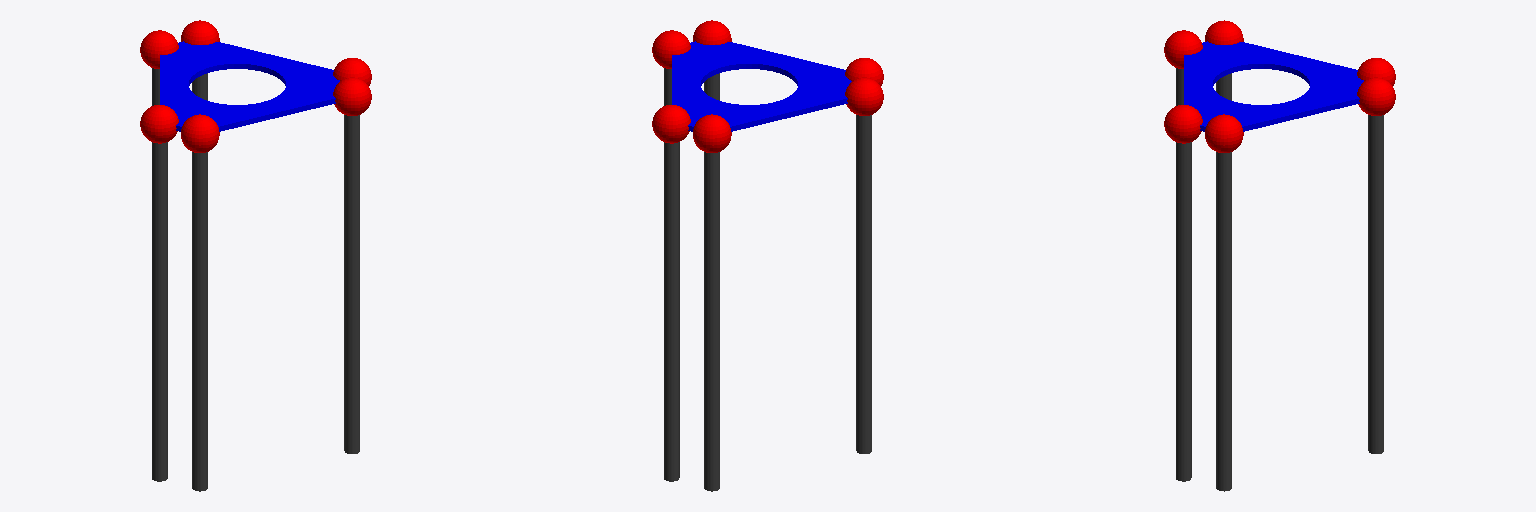
robot.urdf — stewart:
<?xml version="1.0" ?>
<!-- ======================================================================= -->
<!--LICENSE:                                                                 -->
<!--Copyright (c) 2017, [author]                                        -->
<!--Google Inc.                                                              -->
<!--All rights reserved.                                                     -->
<!--                                                                         -->
<!--Redistribution and use in source and binary forms, with or without       -->
<!--modification, are permitted provided that the following conditions are   -->
<!--met:                                                                     -->
<!--                                                                         -->
<!--1. Redistributions or derived work must retain this copyright notice,    -->
<!--   this list of conditions and the following disclaimer.                 -->
<!--                                                                         -->
<!--2. Redistributions in binary form must reproduce the above copyright     -->
<!--   notice, this list of conditions and the following disclaimer in the   -->
<!--   documentation and/or other materials provided with the distribution.  -->
<!--                                                                         -->
<!--THIS SOFTWARE IS PROVIDED BY THE COPYRIGHT [author] "AS  -->
<!--IS" AND ANY EXPRESS OR IMPLIED WARRANTIES, INCLUDING, BUT NOT LIMITED TO,-->
<!--THE IMPLIED WARRANTIES OF MERCHANTABILITY AND FITNESS FOR A PARTICULAR   -->
<!--PURPOSE ARE DISCLAIMED. IN NO EVENT SHALL THE COPYRIGHT [author]        -->
<!--CONTRIBUTORS BE LIABLE FOR ANY DIRECT, INDIRECT, INCIDENTAL, SPECIAL,    -->
<!--EXEMPLARY, OR CONSEQUENTIAL DAMAGES (INCLUDING, BUT NOT LIMITED TO,      -->
<!--PROCUREMENT OF SUBSTITUTE GOODS OR SERVICES; LOSS OF USE, DATA, OR       -->
<!--PROFITS; OR BUSINESS INTERRUPTION) HOWEVER CAUSED AND ON ANY THEORY OF   -->
<!--LIABILITY, WHETHER IN CONTRACT, STRICT LIABILITY, OR TORT (INCLUDING     -->
<!--NEGLIGENCE OR OTHERWISE) ARISING IN ANY WAY OUT OF THE USE OF THIS       -->
<!--SOFTWARE, EVEN IF ADVISED OF THE POSSIBILITY OF SUCH DAMAGE.             -->

<robot name="stewart" 
  xmlns:xacro="http://www.ros.org/wiki/xacro">
  <link name="base_link">
    <contact>
      <lateral_friction value="1"/>
    </contact>
    <visual>
      <geometry>
        <!-- <cylinder length="0.02" radius="0.2"/> -->
        <mesh filename="meshes/platform.stl"/>
      </geometry>
      <material name="blue"/>
    </visual>
    <collision>
      <geometry>
        <cylinder length="0.02" radius="0.2"/>
      </geometry>
    </collision>
    <inertial>
      <mass value="0.5" />
      <origin xyz="0 0 0" rpy="0 0 0" />
      <inertia ixx="0.01" ixy="0" ixz="0" iyy="0.01" iyz="0" izz="0.01" />
    </inertial>
  </link>

  <!-- LEG 1 -->
  <link name="leg1x">
    <visual>
      <geometry>
        <sphere radius="0.02"/>
      </geometry>
      <material name="red"/>
    </visual>
    <collision>
      <geometry>
        <sphere radius="0.02"/>
      </geometry>
    </collision>
    <inertial>
      <mass value="0.001" />
      <origin xyz="0 0 0" rpy="0 0 0" />
      <inertia ixx="0.001" ixy="0.0" ixz="0.0" iyy="0.001" iyz="0" izz="0.001" />
    </inertial>
  </link>
  <joint name="joint1x" type="revolute">
    <parent link="base_link" />
    <child link="leg1x" />
    <axis xyz="1 0 0"/>
    <origin xyz="0.059810 0.29398 0" rpy="0 0 0" />
    <limit effort="0" lower="-20.8973" upper="20.8973" velocity="2.1750"/>
  </joint>

  <link name="leg1y">
    <visual>
      <geometry>
        <sphere radius="0.015"/>
      </geometry>
      <material name="red"/>
    </visual>
    <collision>
      <geometry>
        <sphere radius="0.015"/>
      </geometry>
    </collision>
    <inertial>
      <mass value="0.001" />
      <origin xyz="0 0 0" rpy="0 0 0" />
      <inertia ixx="0.001" ixy="0.0" ixz="0.0" iyy="0.001" iyz="0" izz="0.001" />
    </inertial>
  </link>
  <joint name="joint1y" type="revolute">
    <parent link="leg1x" />
    <child link="leg1y" />
    <axis xyz="0 1 0"/>
    <limit effort="0" lower="-20.8973" upper="20.8973" velocity="2.1750"/>
  </joint>

  <link name="leg1z">
    <visual>
      <origin xyz="0 0 -0.5" rpy="0 0 0" />
      <geometry>
        <cylinder length="1.0" radius="0.02"/>
      </geometry>
      <material name="black"/>
    </visual>
    <collision>
      <geometry>
        <cylinder length="1.0" radius="0.02"/>
      </geometry>
    </collision>
    <inertial>
      <mass value="0.001" />
      <origin xyz="0 0 0" rpy="0 0 0" />
      <inertia ixx="0.001" ixy="0.0" ixz="0.0" iyy="0.001" iyz="0" izz="0.001" />
    </inertial>
  </link>
  <joint name="joint1z" type="revolute">
    <parent link="leg1y" />
    <child link="leg1z" />
    <axis xyz="0 0 1"/>
    <limit effort="0" lower="-20.8973" upper="20.8973" velocity="2.1750"/>
  </joint>

  <link name="leg1p">
    <visual>
      <geometry>
        <sphere radius="0.05"/>
      </geometry>
      <material name="red"/>
    </visual>
    <collision>
      <geometry>
        <sphere radius="0.05"/>
      </geometry>
    </collision>
    <inertial>
      <mass value="1" />
      <origin xyz="0 0 0" rpy="0 0 0" />
      <inertia ixx="0.001" ixy="0.0" ixz="0.0" iyy="0.001" iyz="0" izz="0.001" />
    </inertial>
  </link>
  <joint name="joint1" type="prismatic">
    <parent link="leg1z" />
    <child link="leg1p" />
    <axis xyz="0 0 1"/>
    <origin xyz="0 0 0" rpy="0 0 0" />
    <limit effort="87" lower="-1" upper="1" velocity="2.1750"/>
  </joint>

  <!-- LEG 2 -->
  <link name="leg2x">
    <visual>
      <geometry>
        <sphere radius="0.02"/>
      </geometry>
      <material name="red"/>
    </visual>
    <collision>
      <geometry>
        <sphere radius="0.02"/>
      </geometry>
    </collision>
    <inertial>
      <mass value="0.001" />
      <origin xyz="0 0 0" rpy="0 0 0" />
      <inertia ixx="0.001" ixy="0.0" ixz="0.0" iyy="0.001" iyz="0" izz="0.001" />
    </inertial>
  </link>
  <joint name="joint2x" type="revolute">
    <parent link="base_link" />
    <child link="leg2x" />
    <axis xyz="1 0 0"/>
    <origin xyz="-0.059810 0.29398 0" rpy="0 0 0" />
    <limit effort="0" lower="-20.8973" upper="20.8973" velocity="2.1750"/>
  </joint>

  <link name="leg2y">
    <visual>
      <geometry>
        <sphere radius="0.015"/>
      </geometry>
      <material name="red"/>
    </visual>
    <collision>
      <geometry>
        <sphere radius="0.015"/>
      </geometry>
    </collision>
    <inertial>
      <mass value="0.001" />
      <origin xyz="0 0 0" rpy="0 0 0" />
      <inertia ixx="0.001" ixy="0.0" ixz="0.0" iyy="0.001" iyz="0" izz="0.001" />
    </inertial>
  </link>
  <joint name="joint2y" type="revolute">
    <parent link="leg2x" />
    <child link="leg2y" />
    <axis xyz="0 1 0"/>
    <limit effort="0" lower="-20.8973" upper="20.8973" velocity="2.1750"/>
  </joint>

  <link name="leg2z">
    <visual>
      <origin xyz="0 0 -0.5" rpy="0 0 0" />
      <geometry>
        <cylinder length="1.0" radius="0.02"/>
      </geometry>
      <material name="black"/>
    </visual>
    <collision>
      <geometry>
        <cylinder length="1.0" radius="0.02"/>
      </geometry>
    </collision>
    <inertial>
      <mass value="0.001" />
      <origin xyz="0 0 0" rpy="0 0 0" />
      <inertia ixx="0.001" ixy="0.0" ixz="0.0" iyy="0.001" iyz="0" izz="0.001" />
    </inertial>
  </link>
  <joint name="joint2z" type="revolute">
    <parent link="leg2y" />
    <child link="leg2z" />
    <axis xyz="0 0 1"/>
    <limit effort="0" lower="-20.8973" upper="20.8973" velocity="2.1750"/>
  </joint>

  <link name="leg2p">
    <visual>
      <geometry>
        <sphere radius="0.05"/>
      </geometry>
      <material name="red"/>
    </visual>
    <collision>
      <geometry>
        <sphere radius="0.05"/>
      </geometry>
    </collision>
    <inertial>
      <mass value="1" />
      <origin xyz="0 0 0" rpy="0 0 0" />
      <inertia ixx="0.001" ixy="0.0" ixz="0.0" iyy="0.001" iyz="0" izz="0.001" />
    </inertial>
  </link>
  <joint name="joint2" type="prismatic">
    <parent link="leg2z" />
    <child link="leg2p" />
    <axis xyz="0 0 1"/>
    <origin xyz="0 0 0" rpy="0 0 0" />
    <limit effort="87" lower="-1" upper="1" velocity="2.1750"/>
  </joint>

  <!-- LEG 3 -->
  <link name="leg3x">
    <visual>
      <geometry>
        <sphere radius="0.02"/>
      </geometry>
      <material name="red"/>
    </visual>
    <collision>
      <geometry>
        <sphere radius="0.02"/>
      </geometry>
    </collision>
    <inertial>
      <mass value="0.001" />
      <origin xyz="0 0 0" rpy="0 0 0" />
      <inertia ixx="0.001" ixy="0.0" ixz="0.0" iyy="0.001" iyz="0" izz="0.001" />
    </inertial>
  </link>
  <joint name="joint3x" type="revolute">
    <parent link="base_link" />
    <child link="leg3x" />
    <axis xyz="1 0 0"/>
    <origin xyz="-0.284497  -0.095191 0" rpy="0 0 0" />
    <limit effort="0" lower="-20.8973" upper="20.8973" velocity="2.1750"/>
  </joint>

  <link name="leg3y">
    <visual>
      <geometry>
        <sphere radius="0.015"/>
      </geometry>
      <material name="red"/>
    </visual>
    <collision>
      <geometry>
        <sphere radius="0.015"/>
      </geometry>
    </collision>
    <inertial>
      <mass value="0.001" />
      <origin xyz="0 0 0" rpy="0 0 0" />
      <inertia ixx="0.001" ixy="0.0" ixz="0.0" iyy="0.001" iyz="0" izz="0.001" />
    </inertial>
  </link>
  <joint name="joint3y" type="revolute">
    <parent link="leg3x" />
    <child link="leg3y" />
    <axis xyz="0 1 0"/>
    <limit effort="0" lower="-20.8973" upper="20.8973" velocity="2.1750"/>
  </joint>

  <link name="leg3z">
    <visual>
      <origin xyz="0 0 -0.5" rpy="0 0 0" />
      <geometry>
        <cylinder length="1.0" radius="0.02"/>
      </geometry>
      <material name="black"/>
    </visual>
    <collision>
      <geometry>
        <cylinder length="1.0" radius="0.02"/>
      </geometry>
    </collision>
    <inertial>
      <mass value="0.001" />
      <origin xyz="0 0 0" rpy="0 0 0" />
      <inertia ixx="0.001" ixy="0.0" ixz="0.0" iyy="0.001" iyz="0" izz="0.001" />
    </inertial>
  </link>
  <joint name="joint3z" type="revolute">
    <parent link="leg3y" />
    <child link="leg3z" />
    <axis xyz="0 0 1"/>
    <limit effort="0" lower="-20.8973" upper="20.8973" velocity="2.1750"/>
  </joint>

  <link name="leg3p">
    <visual>
      <geometry>
        <sphere radius="0.05"/>
      </geometry>
      <material name="red"/>
    </visual>
    <collision>
      <geometry>
        <sphere radius="0.05"/>
      </geometry>
    </collision>
    <inertial>
      <mass value="1" />
      <origin xyz="0 0 0" rpy="0 0 0" />
      <inertia ixx="0.001" ixy="0.0" ixz="0.0" iyy="0.001" iyz="0" izz="0.001" />
    </inertial>
  </link>
  <joint name="joint3" type="prismatic">
    <parent link="leg3z" />
    <child link="leg3p" />
    <axis xyz="0 0 1"/>
    <origin xyz="0 0 0" rpy="0 0 0" />
    <limit effort="87" lower="-1" upper="1" velocity="2.1750"/>
  </joint>

  <!-- LEG 4 -->
  <link name="leg4x">
    <visual>
      <geometry>
        <sphere radius="0.02"/>
      </geometry>
      <material name="red"/>
    </visual>
    <collision>
      <geometry>
        <sphere radius="0.02"/>
      </geometry>
    </collision>
    <inertial>
      <mass value="0.001" />
      <origin xyz="0 0 0" rpy="0 0 0" />
      <inertia ixx="0.001" ixy="0.0" ixz="0.0" iyy="0.001" iyz="0" izz="0.001" />
    </inertial>
  </link>
  <joint name="joint4x" type="revolute">
    <parent link="base_link" />
    <child link="leg4x" />
    <axis xyz="1 0 0"/>
    <origin xyz="-0.224687  -0.198786 0" rpy="0 0 0" />
    <limit effort="0" lower="-20.8973" upper="20.8973" velocity="2.1750"/>
  </joint>

  <link name="leg4y">
    <visual>
      <geometry>
        <sphere radius="0.015"/>
      </geometry>
      <material name="red"/>
    </visual>
    <collision>
      <geometry>
        <sphere radius="0.015"/>
      </geometry>
    </collision>
    <inertial>
      <mass value="0.001" />
      <origin xyz="0 0 0" rpy="0 0 0" />
      <inertia ixx="0.001" ixy="0.0" ixz="0.0" iyy="0.001" iyz="0" izz="0.001" />
    </inertial>
  </link>
  <joint name="joint4y" type="revolute">
    <parent link="leg4x" />
    <child link="leg4y" />
    <axis xyz="0 1 0"/>
    <limit effort="0" lower="-20.8973" upper="20.8973" velocity="2.1750"/>
  </joint>

  <link name="leg4z">
    <visual>
      <origin xyz="0 0 -0.5" rpy="0 0 0" />
      <geometry>
        <cylinder length="1.0" radius="0.02"/>
      </geometry>
      <material name="black"/>
    </visual>
    <collision>
      <geometry>
        <cylinder length="1.0" radius="0.02"/>
      </geometry>
    </collision>
    <inertial>
      <mass value="0.001" />
      <origin xyz="0 0 0" rpy="0 0 0" />
      <inertia ixx="0.001" ixy="0.0" ixz="0.0" iyy="0.001" iyz="0" izz="0.001" />
    </inertial>
  </link>
  <joint name="joint4z" type="revolute">
    <parent link="leg4y" />
    <child link="leg4z" />
    <axis xyz="0 0 1"/>
    <limit effort="0" lower="-20.8973" upper="20.8973" velocity="2.1750"/>
  </joint>

  <link name="leg4p">
    <visual>
      <geometry>
        <sphere radius="0.05"/>
      </geometry>
      <material name="red"/>
    </visual>
    <collision>
      <geometry>
        <sphere radius="0.05"/>
      </geometry>
    </collision>
    <inertial>
      <mass value="1" />
      <origin xyz="0 0 0" rpy="0 0 0" />
      <inertia ixx="0.001" ixy="0.0" ixz="0.0" iyy="0.001" iyz="0" izz="0.001" />
    </inertial>
  </link>
  <joint name="joint4" type="prismatic">
    <parent link="leg4z" />
    <child link="leg4p" />
    <axis xyz="0 0 1"/>
    <origin xyz="0 0 0" rpy="0 0 0" />
    <limit effort="87" lower="-1" upper="1" velocity="2.1750"/>
  </joint>

  <!-- LEG 5 -->
  <link name="leg5x">
    <visual>
      <geometry>
        <sphere radius="0.02"/>
      </geometry>
      <material name="red"/>
    </visual>
    <collision>
      <geometry>
        <sphere radius="0.02"/>
      </geometry>
    </collision>
    <inertial>
      <mass value="0.001" />
      <origin xyz="0 0 0" rpy="0 0 0" />
      <inertia ixx="0.001" ixy="0.0" ixz="0.0" iyy="0.001" iyz="0" izz="0.001" />
    </inertial>
  </link>
  <joint name="joint5x" type="revolute">
    <parent link="base_link" />
    <child link="leg5x" />
    <axis xyz="1 0 0"/>
    <origin xyz="0.224687  -0.198786 0" rpy="0 0 0" />
    <limit effort="0" lower="-20.8973" upper="20.8973" velocity="2.1750"/>
  </joint>

  <link name="leg5y">
    <visual>
      <geometry>
        <sphere radius="0.015"/>
      </geometry>
      <material name="red"/>
    </visual>
    <collision>
      <geometry>
        <sphere radius="0.015"/>
      </geometry>
    </collision>
    <inertial>
      <mass value="0.001" />
      <origin xyz="0 0 0" rpy="0 0 0" />
      <inertia ixx="0.001" ixy="0.0" ixz="0.0" iyy="0.001" iyz="0" izz="0.001" />
    </inertial>
  </link>
  <joint name="joint5y" type="revolute">
    <parent link="leg5x" />
    <child link="leg5y" />
    <axis xyz="0 1 0"/>
    <limit effort="0" lower="-20.8973" upper="20.8973" velocity="2.1750"/>
  </joint>

  <link name="leg5z">
    <visual>
      <origin xyz="0 0 -0.5" rpy="0 0 0" />
      <geometry>
        <cylinder length="1.0" radius="0.02"/>
      </geometry>
      <material name="black"/>
    </visual>
    <collision>
      <geometry>
        <cylinder length="1.0" radius="0.02"/>
      </geometry>
    </collision>
    <inertial>
      <mass value="0.001" />
      <origin xyz="0 0 0" rpy="0 0 0" />
      <inertia ixx="0.001" ixy="0.0" ixz="0.0" iyy="0.001" iyz="0" izz="0.001" />
    </inertial>
  </link>
  <joint name="joint5z" type="revolute">
    <parent link="leg5y" />
    <child link="leg5z" />
    <axis xyz="0 0 1"/>
    <limit effort="0" lower="-20.8973" upper="20.8973" velocity="2.1750"/>
  </joint>

  <link name="leg5p">
    <visual>
      <geometry>
        <sphere radius="0.05"/>
      </geometry>
      <material name="red"/>
    </visual>
    <collision>
      <geometry>
        <sphere radius="0.05"/>
      </geometry>
    </collision>
    <inertial>
      <mass value="1" />
      <origin xyz="0 0 0" rpy="0 0 0" />
      <inertia ixx="0.001" ixy="0.0" ixz="0.0" iyy="0.001" iyz="0" izz="0.001" />
    </inertial>
  </link>
  <joint name="joint5" type="prismatic">
    <parent link="leg5z" />
    <child link="leg5p" />
    <axis xyz="0 0 1"/>
    <origin xyz="0 0 0" rpy="0 0 0" />
    <limit effort="87" lower="-1" upper="1" velocity="2.1750"/>
  </joint>

  <!-- LEG 6 -->
  <link name="leg6x">
    <visual>
      <geometry>
        <sphere radius="0.02"/>
      </geometry>
      <material name="red"/>
    </visual>
    <collision>
      <geometry>
        <sphere radius="0.02"/>
      </geometry>
    </collision>
    <inertial>
      <mass value="0.001" />
      <origin xyz="0 0 0" rpy="0 0 0" />
      <inertia ixx="0.001" ixy="0.0" ixz="0.0" iyy="0.001" iyz="0" izz="0.001" />
    </inertial>
  </link>
  <joint name="joint6x" type="revolute">
    <parent link="base_link" />
    <child link="leg6x" />
    <axis xyz="1 0 0"/>
    <origin xyz="0.284497  -0.095191 0" rpy="0 0 0" />
    <limit effort="0" lower="-20.8973" upper="20.8973" velocity="2.1750"/>
  </joint>

  <link name="leg6y">
    <visual>
      <geometry>
        <sphere radius="0.015"/>
      </geometry>
      <material name="red"/>
    </visual>
    <collision>
      <geometry>
        <sphere radius="0.015"/>
      </geometry>
    </collision>
    <inertial>
      <mass value="0.001" />
      <origin xyz="0 0 0" rpy="0 0 0" />
      <inertia ixx="0.001" ixy="0.0" ixz="0.0" iyy="0.001" iyz="0" izz="0.001" />
    </inertial>
  </link>
  <joint name="joint6y" type="revolute">
    <parent link="leg6x" />
    <child link="leg6y" />
    <axis xyz="0 1 0"/>
    <limit effort="0" lower="-20.8973" upper="20.8973" velocity="2.1750"/>
  </joint>

  <link name="leg6z">
    <visual>
      <origin xyz="0 0 -0.5" rpy="0 0 0" />
      <geometry>
        <cylinder length="1.0" radius="0.02"/>
      </geometry>
      <material name="black"/>
    </visual>
    <collision>
      <geometry>
        <cylinder length="1.0" radius="0.02"/>
      </geometry>
    </collision>
    <inertial>
      <mass value="0.001" />
      <origin xyz="0 0 0" rpy="0 0 0" />
      <inertia ixx="0.001" ixy="0.0" ixz="0.0" iyy="0.001" iyz="0" izz="0.001" />
    </inertial>
  </link>
  <joint name="joint6z" type="revolute">
    <parent link="leg6y" />
    <child link="leg6z" />
    <axis xyz="0 0 1"/>
    <limit effort="0" lower="-20.8973" upper="20.8973" velocity="2.1750"/>
  </joint>

  <link name="leg6p">
    <visual>
      <geometry>
        <sphere radius="0.05"/>
      </geometry>
      <material name="red"/>
    </visual>
    <collision>
      <geometry>
        <sphere radius="0.05"/>
      </geometry>
    </collision>
    <inertial>
      <mass value="1" />
      <origin xyz="0 0 0" rpy="0 0 0" />
      <inertia ixx="0.001" ixy="0.0" ixz="0.0" iyy="0.001" iyz="0" izz="0.001" />
    </inertial>
  </link>
  <joint name="joint6" type="prismatic">
    <parent link="leg6z" />
    <child link="leg6p" />
    <axis xyz="0 0 1"/>
    <origin xyz="0 0 0" rpy="0 0 0" />
    <limit effort="87" lower="-1" upper="1" velocity="2.1750"/>
  </joint>



  <material name="red">
    <color rgba="1 0 0 1"/>
  </material>
  <material name="green">
    <color rgba="0 1 0 1"/>
  </material>
  <material name="blue">
    <color rgba="0 0 1 1"/>
  </material>
  <material name="black">
    <color rgba="0.3 0.3 0.3 1"/>
  </material>
</robot>

--- What the picture shows (computed from the rendered views, not written in the file) ---
Views: 3 orthographic renders of the robot side by side, from view 1: azimuth 30°, elevation 25°; view 2: azimuth 150°, elevation 25°; view 3: azimuth 270°, elevation 25°.
Model stewart with 25 links and 24 joints (18 revolute, 6 prismatic), rooted at base_link, posed every joint at zero.
Visible links, largest first — view 1: base_link, leg3z, leg4z, leg5z, leg4p, leg5p, leg3p, leg2p, leg1p, leg6p; view 2: base_link, leg2z, leg1z, leg3z, leg2p, leg1p, leg3p, leg6p, leg5p, leg4p; view 3: base_link, leg6z, leg1z, leg5z, leg6p, leg1p, leg5p, leg4p, leg3p, leg2p.
Boxes of the visible links, x1=… form: base_link: x1=160, y1=41, x2=339, y2=131; leg3z: x1=152, y1=142, x2=167, y2=481; leg4z: x1=192, y1=152, x2=207, y2=491; leg5z: x1=344, y1=115, x2=359, y2=453; leg4p: x1=181, y1=114, x2=219, y2=152; leg5p: x1=333, y1=77, x2=371, y2=115; leg3p: x1=140, y1=105, x2=178, y2=143; leg2p: x1=140, y1=30, x2=178, y2=68; leg1p: x1=181, y1=20, x2=219, y2=44; leg6p: x1=333, y1=58, x2=371, y2=85; base_link: x1=672, y1=41, x2=851, y2=131; leg2z: x1=704, y1=152, x2=719, y2=491; leg1z: x1=664, y1=142, x2=679, y2=481; leg3z: x1=856, y1=115, x2=871, y2=453; leg2p: x1=693, y1=114, x2=731, y2=152; leg1p: x1=652, y1=105, x2=690, y2=143; leg3p: x1=845, y1=77, x2=883, y2=115; leg6p: x1=652, y1=30, x2=690, y2=68; leg5p: x1=693, y1=20, x2=731, y2=44; leg4p: x1=845, y1=58, x2=883, y2=85; base_link: x1=1184, y1=41, x2=1363, y2=131; leg6z: x1=1216, y1=152, x2=1231, y2=491; leg1z: x1=1368, y1=115, x2=1383, y2=453; leg5z: x1=1176, y1=142, x2=1191, y2=481; leg6p: x1=1205, y1=114, x2=1243, y2=152; leg1p: x1=1357, y1=77, x2=1395, y2=115; leg5p: x1=1164, y1=105, x2=1202, y2=143; leg4p: x1=1164, y1=30, x2=1202, y2=68; leg3p: x1=1205, y1=20, x2=1243, y2=44; leg2p: x1=1357, y1=58, x2=1395, y2=85.
Bounding box of the posed robot: 0.669 × 0.5928 × 1.05 m (x, y, z).
Meshes: 1 distinct files referenced, 1 mesh visuals loaded (1 binary STL).
